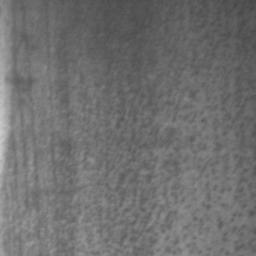Pitted surface: (4, 0, 256, 256)
